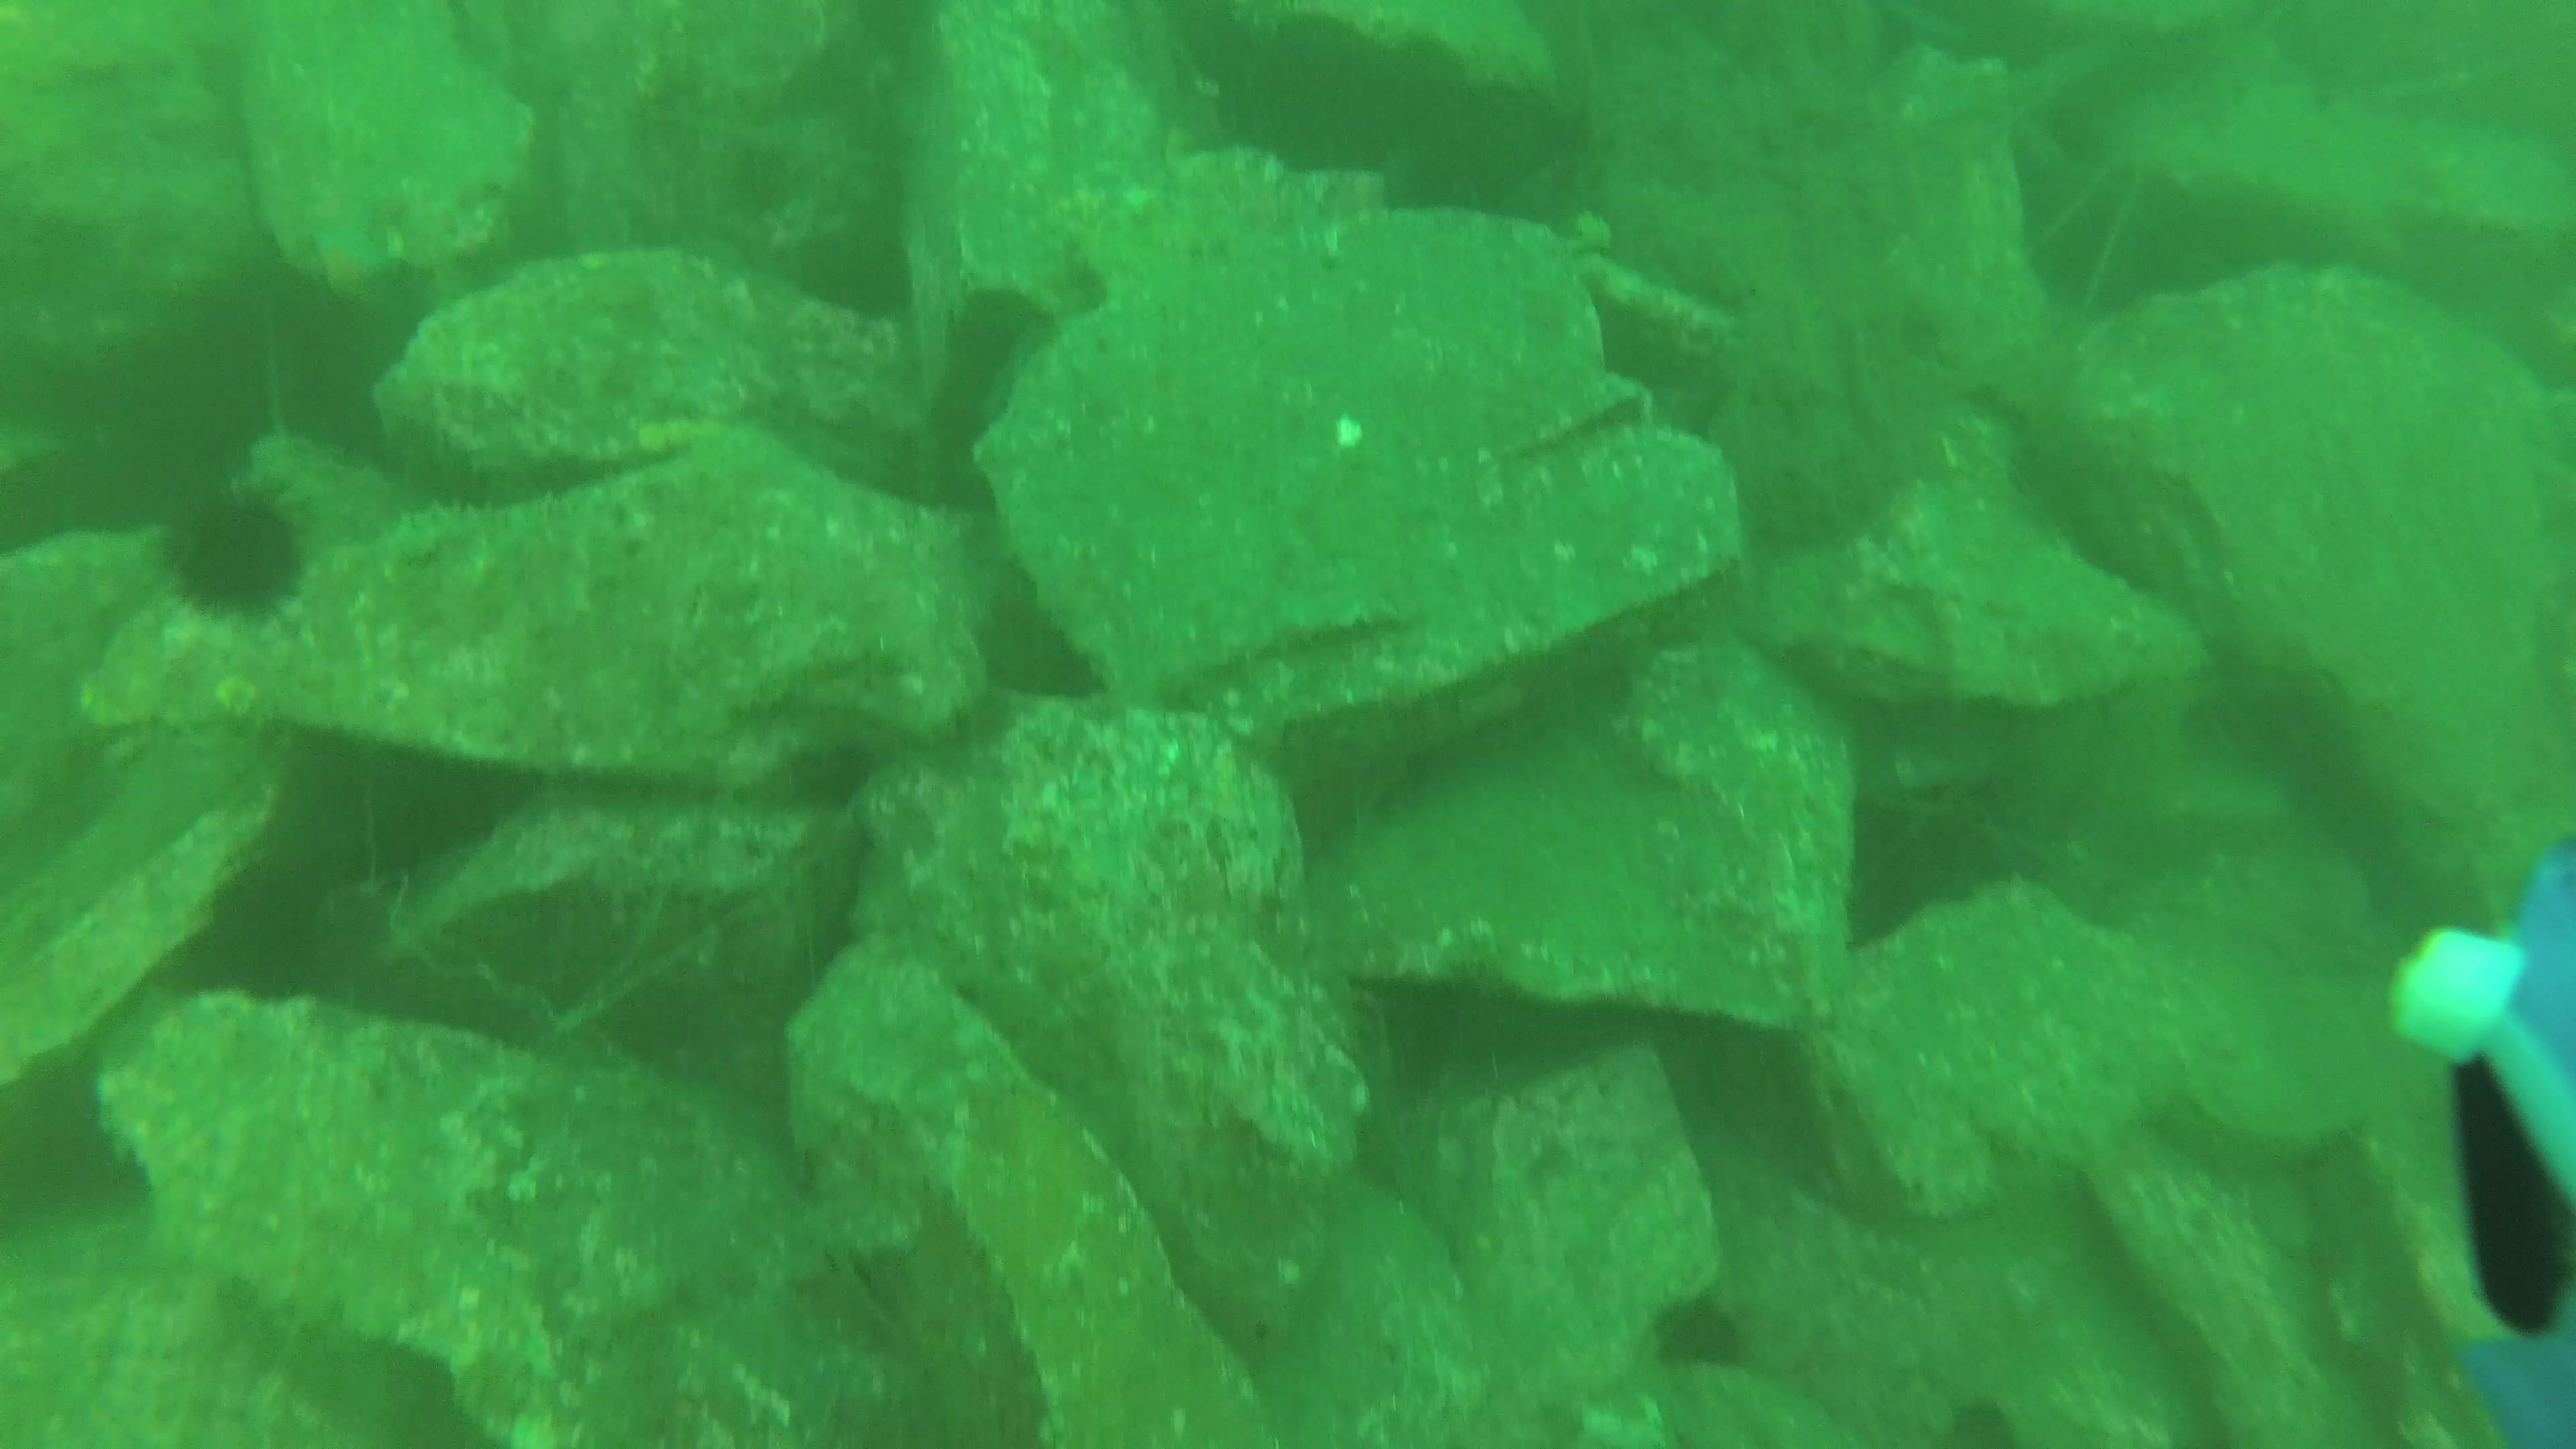echinus: (149, 469, 326, 628), (1638, 1286, 1759, 1380), (1928, 1398, 2024, 1449)
